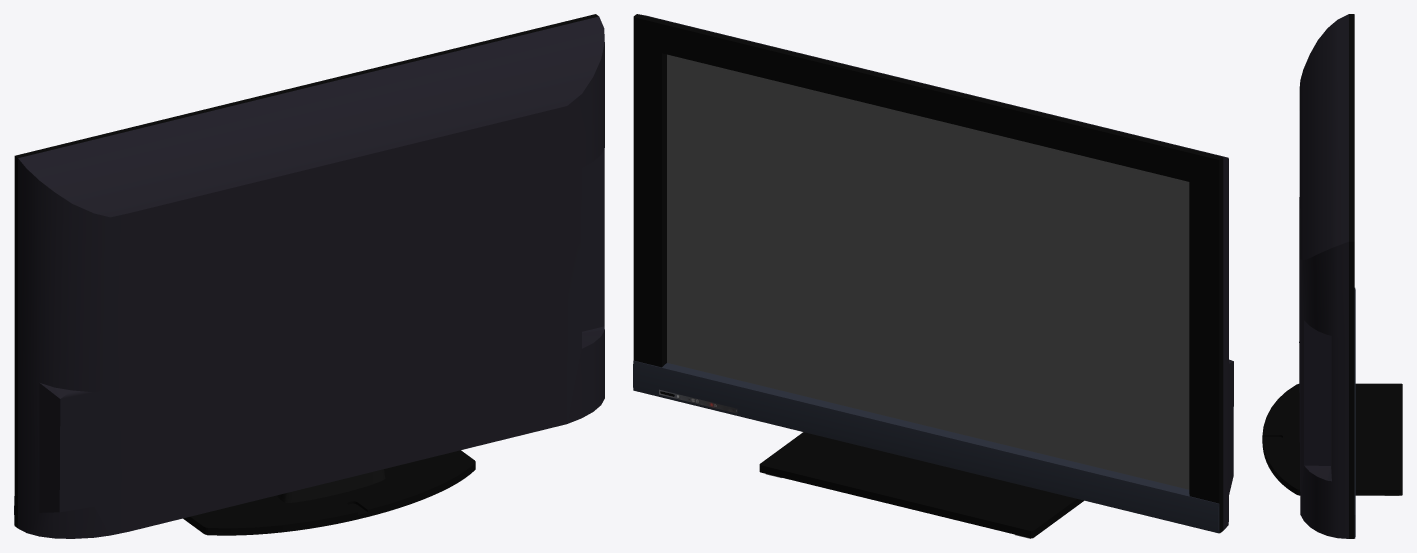
3 renders of one model, left to right at view 1: azimuth 30°, elevation 25°; view 2: azimuth 150°, elevation 25°; view 3: azimuth 270°, elevation 25°, orthographic. The views are drawn at different scales.
Visible parts, largest first — view 1: Back, Base, Border, Stand_Join; view 2: Screen, Border, Front_Fascia, Base, Back; view 3: Back, Base, Border, Front_Fascia.
Part boxes in pixels (x1,y1,x2,y2): Back: [18, 16, 604, 538]; Base: [183, 450, 475, 535]; Border: [14, 14, 598, 528]; Stand_Join: [276, 469, 385, 502]; Screen: [667, 54, 1189, 489]; Border: [633, 14, 1223, 533]; Front_Fascia: [633, 360, 1219, 533]; Base: [759, 432, 1083, 538]; Back: [639, 14, 1233, 530]; Back: [1299, 14, 1348, 538]; Base: [1262, 383, 1402, 495]; Border: [1349, 14, 1354, 538]; Front_Fascia: [1354, 288, 1355, 538].
Size of the model in its own units: 1.16 by 0.7499 by 0.3014.
